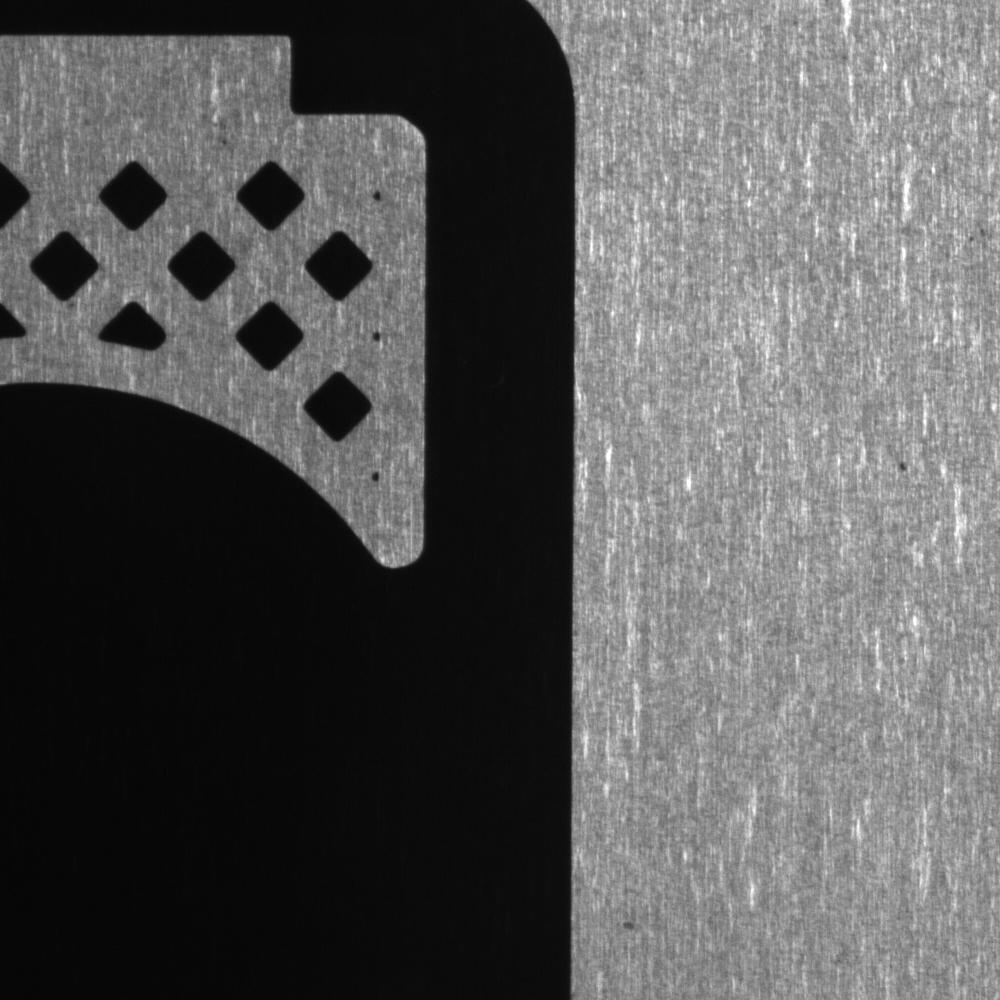Pinhole: (361, 321, 393, 355), (361, 459, 395, 491), (891, 451, 921, 487), (362, 179, 391, 210)
